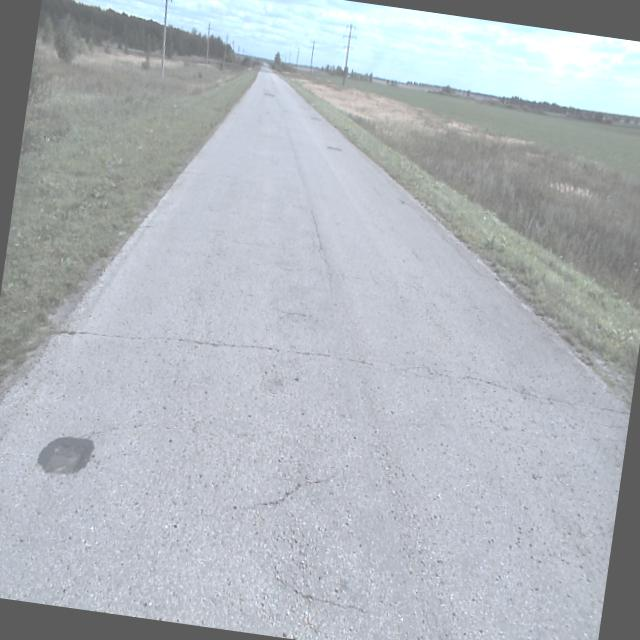road: (0, 62, 630, 640)
